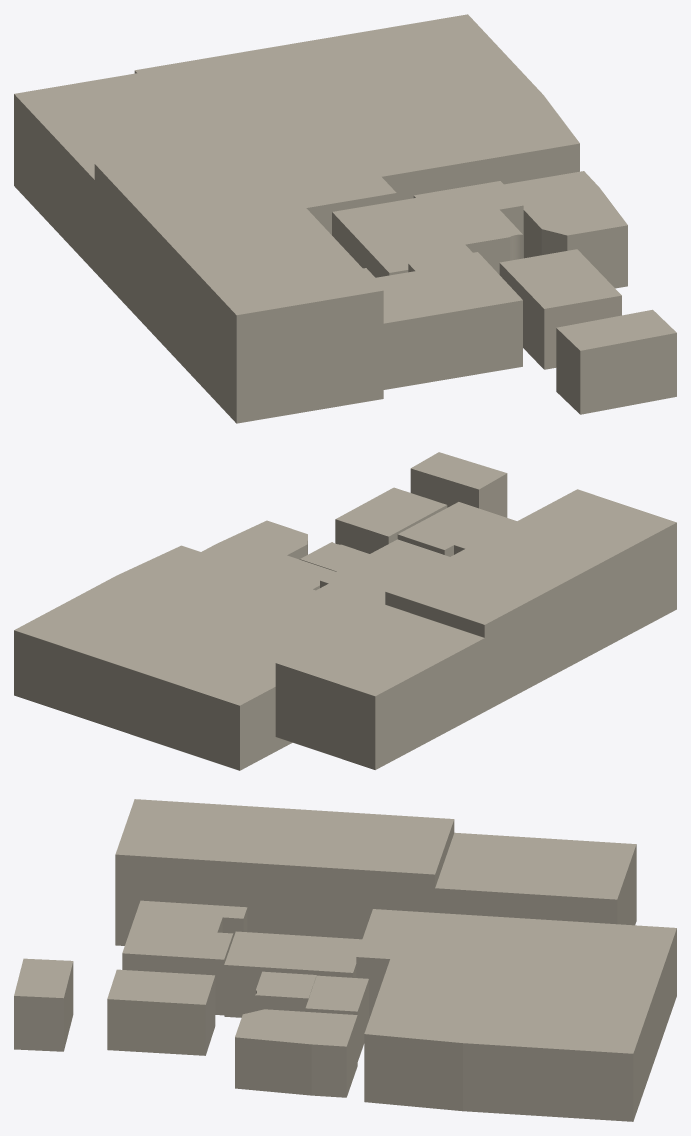
File: senglea_57_30_collision.glb
3 renders of one model, top to bottom at view 1: azimuth 30°, elevation 25°; view 2: azimuth 150°, elevation 25°; view 3: azimuth 270°, elevation 25°, orthographic. The views are drawn at different scales.
Visible parts, largest first — view 1: geometry_0; view 2: geometry_0; view 3: geometry_0.
Part boxes in pixels (x1=…): geometry_0: x1=14, y1=14, x2=676, y2=423; geometry_0: x1=14, y1=452, x2=676, y2=770; geometry_0: x1=14, y1=799, x2=676, y2=1121.
Bounding box in the file's own units: 101 × 23.07 × 130.
